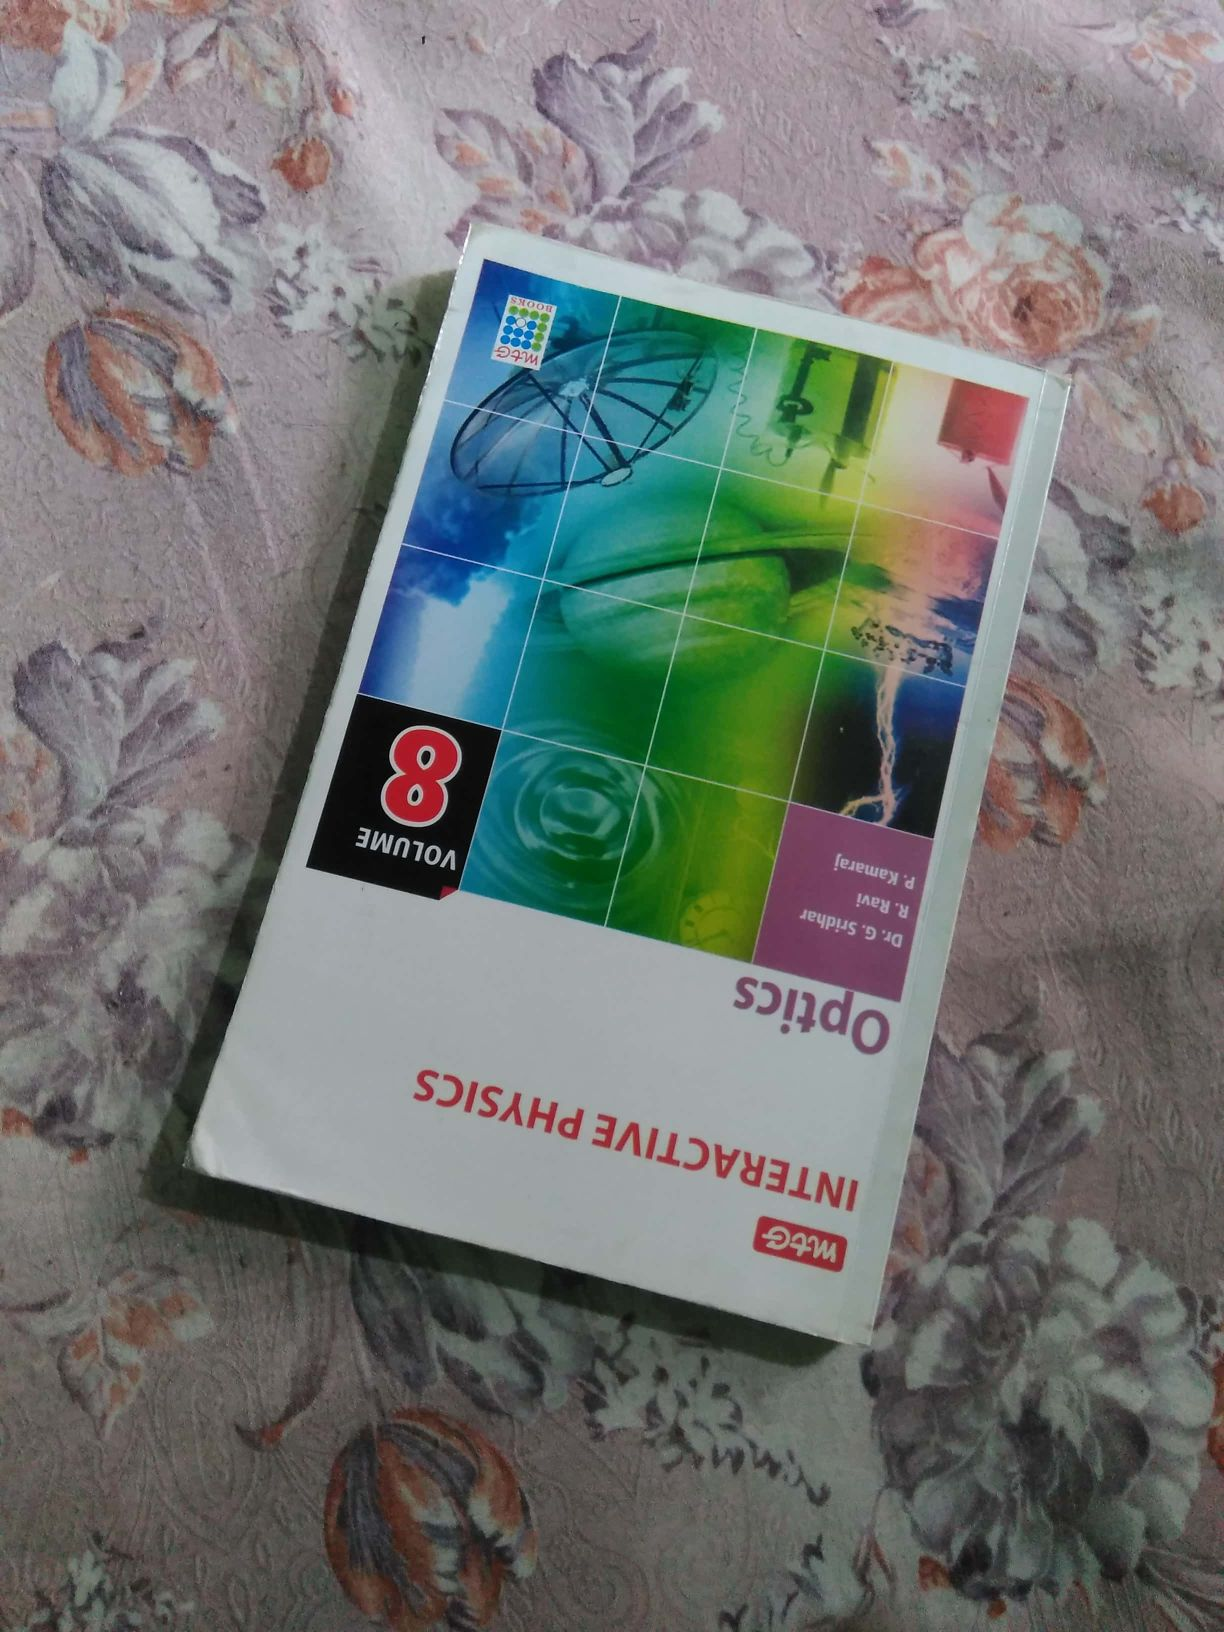optics: (242, 215, 1014, 1365)
